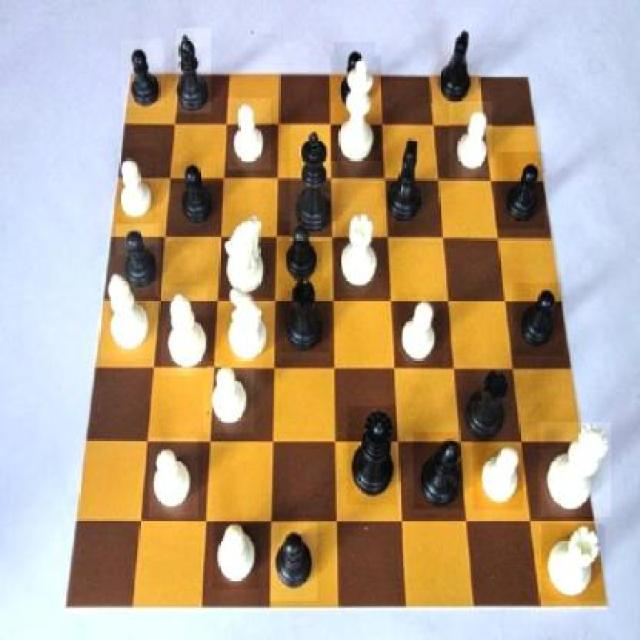bishop: (414, 432, 464, 510), (177, 29, 212, 114)
black-bishop: (291, 125, 337, 242)
black-king: (378, 137, 428, 232), (432, 21, 480, 104)
black-knight: (497, 153, 546, 230), (269, 523, 317, 600), (514, 283, 564, 356), (117, 221, 160, 297), (174, 160, 218, 230), (278, 223, 322, 289), (122, 40, 164, 108), (334, 42, 374, 112)
black-pawn: (348, 406, 397, 506)
black-queen: (459, 366, 516, 442), (278, 278, 328, 352)
black-rook: (100, 256, 155, 360), (162, 286, 208, 376)
white-bishop: (331, 56, 381, 160)
white-king: (218, 212, 272, 298), (223, 287, 272, 368)
white-knight: (150, 438, 198, 518), (203, 361, 254, 434), (395, 294, 443, 368), (472, 442, 522, 512), (214, 518, 260, 590), (450, 101, 492, 178), (228, 98, 272, 171), (114, 148, 156, 224)
white-pawn: (540, 421, 612, 517)
white-queen: (542, 524, 606, 600), (338, 209, 384, 297)
